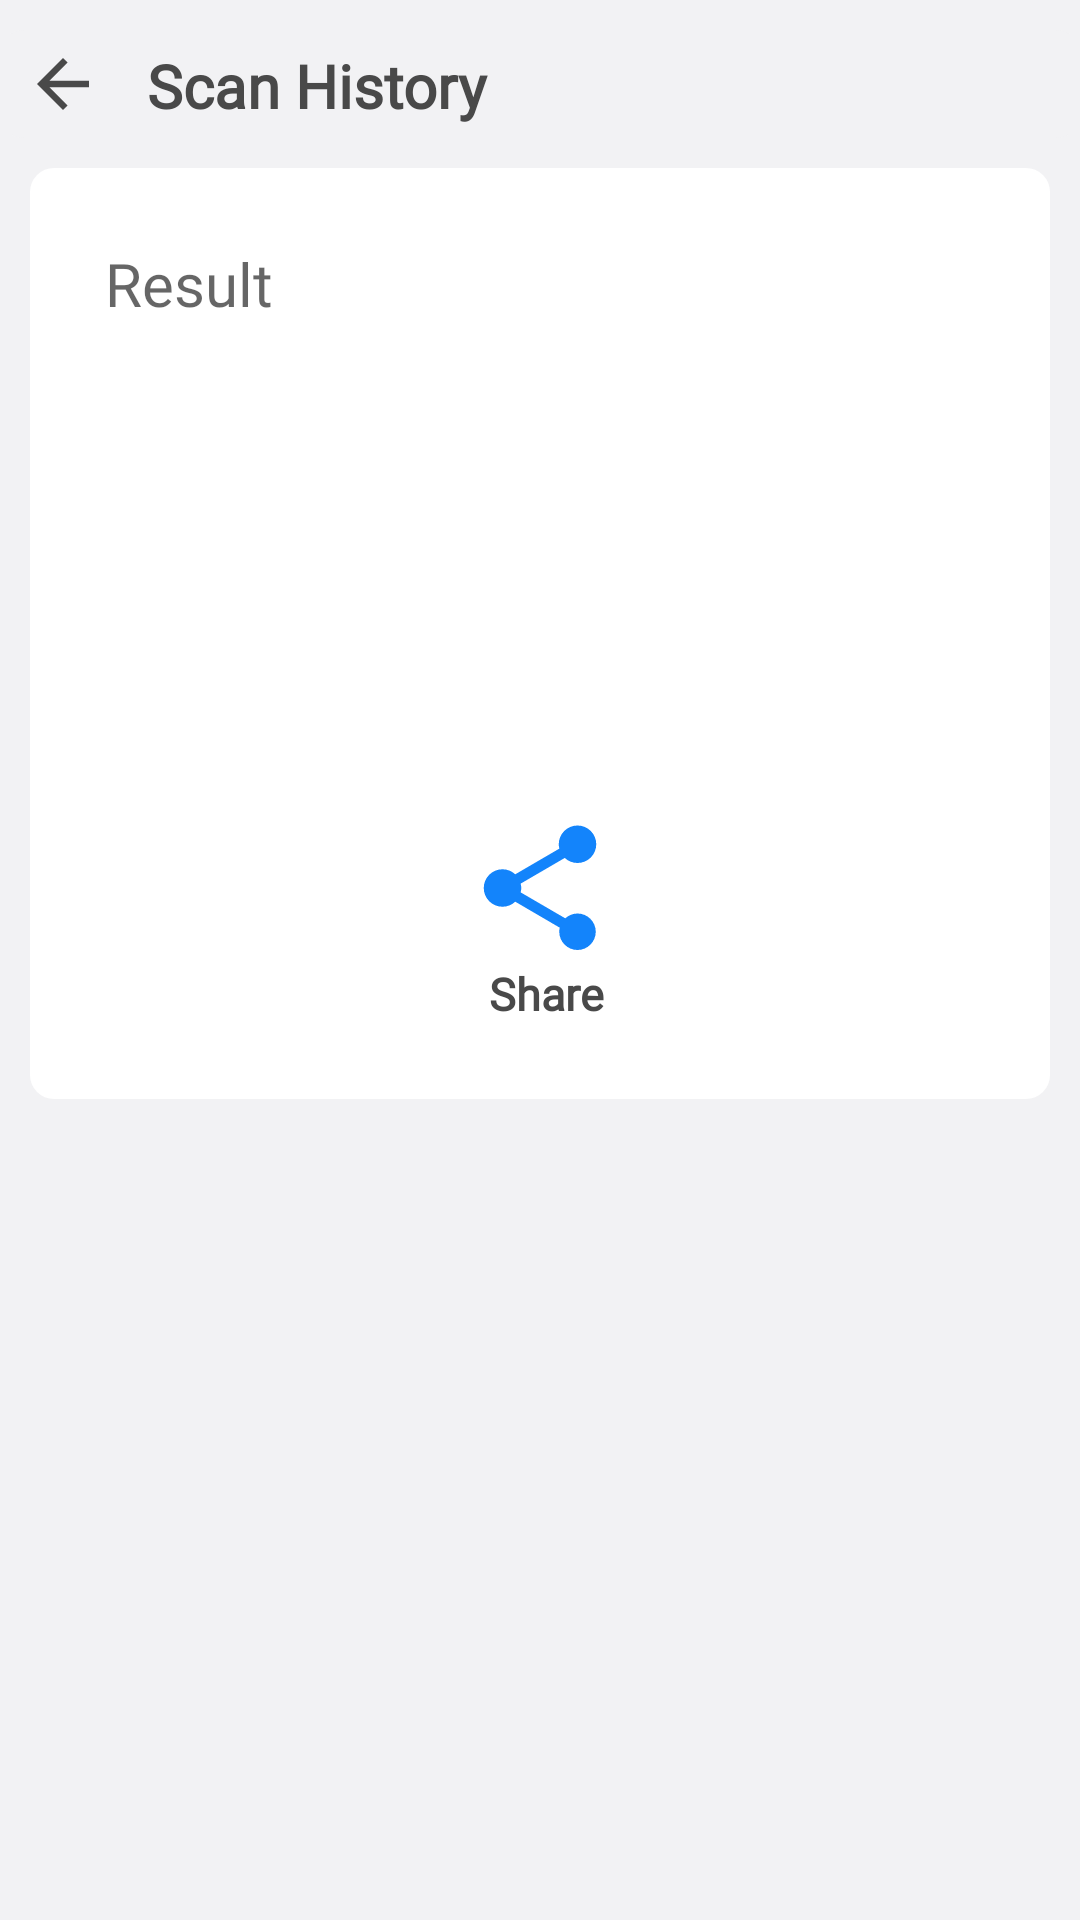

Where icons sit on this 1080 × 1920 app screen, as (x1, y1, x2, y2):
back: (37, 58, 89, 110)
